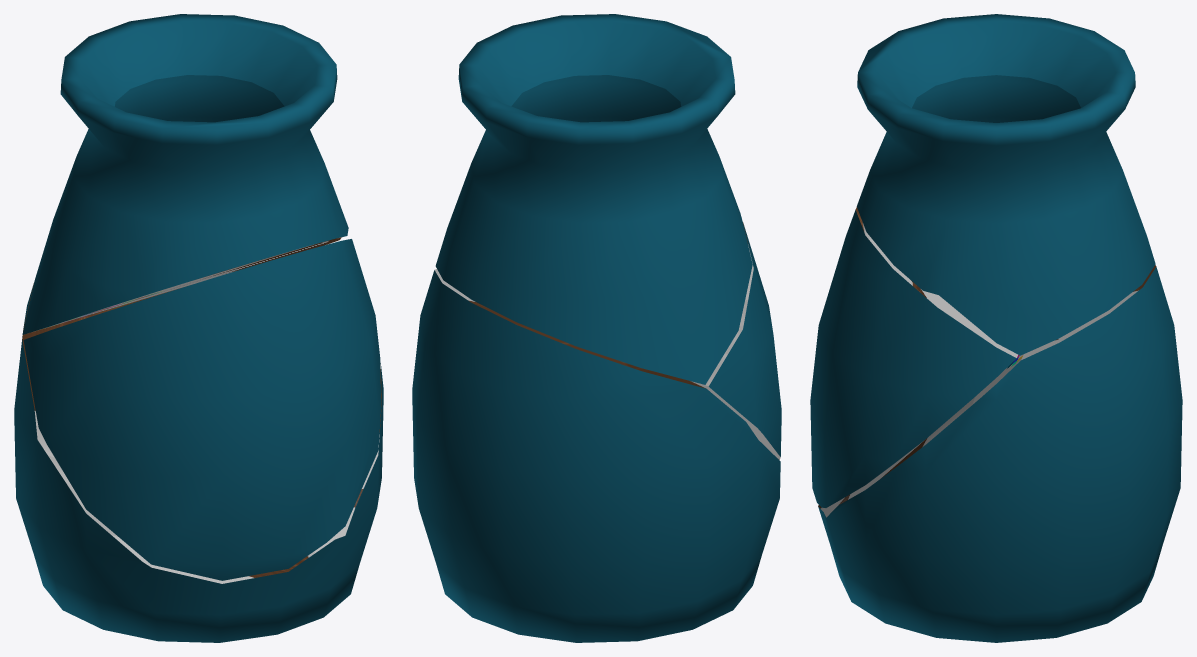
The model's file is JarronRoto.fbx.
3 views of the same model, side by side, from view 1: azimuth 30°, elevation 25°; view 2: azimuth 150°, elevation 25°; view 3: azimuth 270°, elevation 25° (orthographic).
Visible parts, largest first — view 1: Cylinder_cell, Cylinder_cell.001, Cylinder_cell.002; view 2: Cylinder_cell.002, Cylinder_cell.001, Cylinder_cell; view 3: Cylinder_cell.002, Cylinder_cell.001, Cylinder_cell.
Part boxes in pixels (x1=…): Cylinder_cell: x1=23, y1=239, x2=381, y2=580; Cylinder_cell.001: x1=22, y1=14, x2=348, y2=334; Cylinder_cell.002: x1=14, y1=283, x2=383, y2=642; Cylinder_cell.002: x1=412, y1=269, x2=780, y2=642; Cylinder_cell.001: x1=435, y1=14, x2=752, y2=384; Cylinder_cell: x1=691, y1=222, x2=781, y2=459; Cylinder_cell.002: x1=818, y1=265, x2=1182, y2=642; Cylinder_cell.001: x1=856, y1=14, x2=1155, y2=355; Cylinder_cell: x1=810, y1=207, x2=1017, y2=507.
Size of the model in its own units: 18.87 by 18.87 by 28.2.
